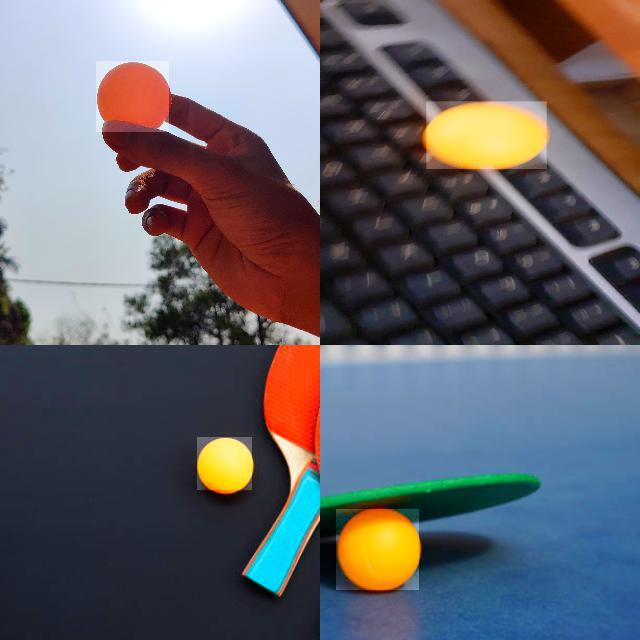ping-pong-ball: (426, 102, 548, 170), (336, 508, 419, 592), (96, 61, 170, 133), (197, 436, 253, 492)
